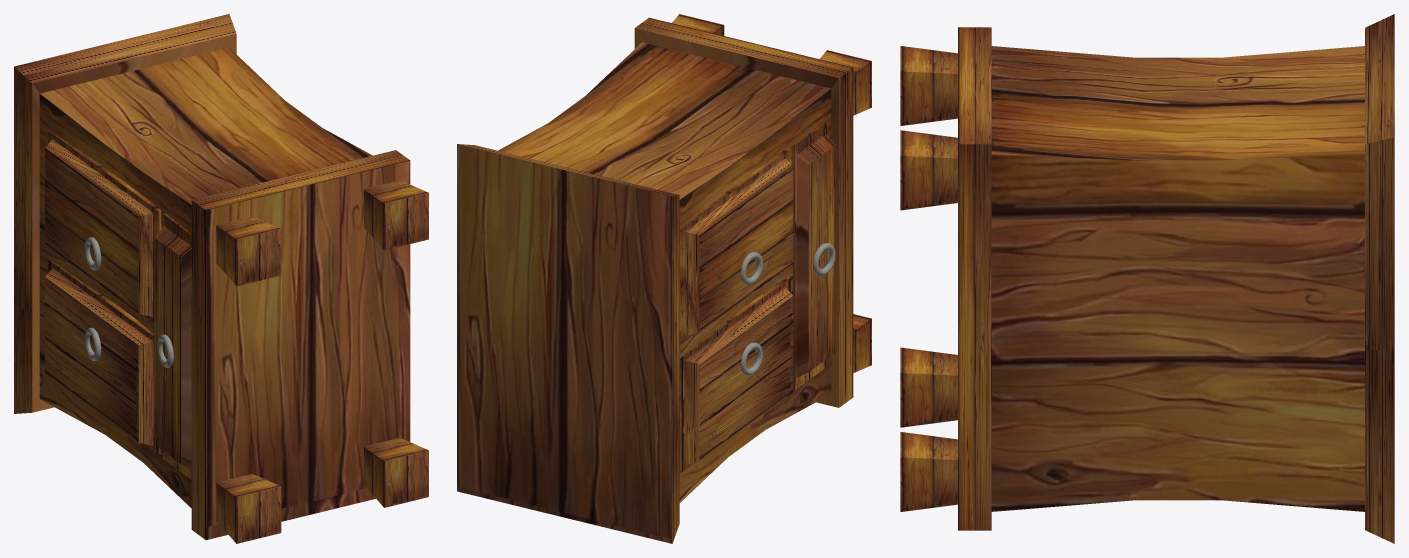
Rendered from Closet.fbx.
3 renders of one model, left to right at view 1: azimuth 30°, elevation 25°; view 2: azimuth 150°, elevation 25°; view 3: azimuth 270°, elevation 25°, orthographic. The views are drawn at different scales.
Visible parts, largest first — view 1: Base_Leg_01.001; view 2: Base_Leg_01.001; view 3: Base_Leg_01.001.
Part boxes in pixels (x1,y1,x2,y2): Base_Leg_01.001: [14, 14, 428, 543]; Base_Leg_01.001: [457, 14, 871, 543]; Base_Leg_01.001: [900, 14, 1394, 543].
Size of the model in its own units: 707 by 1067 by 1174.
